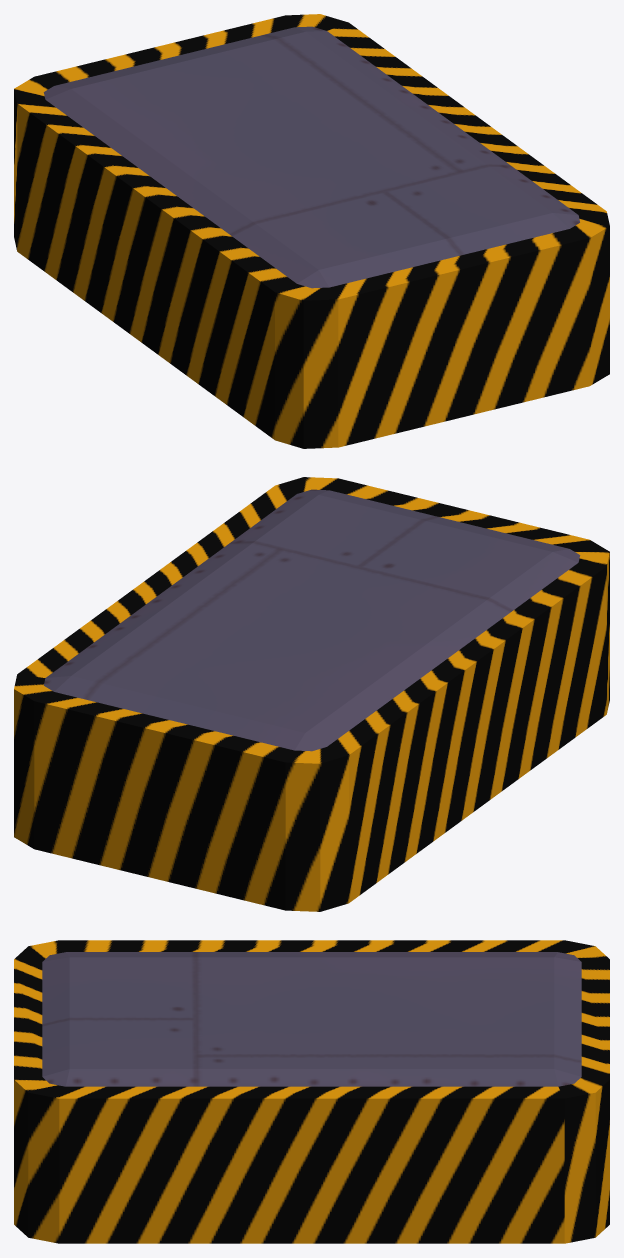
The model's file is Default_Platform.glb.
The picture shows the model from 3 angles, top to bottom: view 1: azimuth 30°, elevation 25°; view 2: azimuth 150°, elevation 25°; view 3: azimuth 270°, elevation 25°; orthographic projection. The views are drawn at different scales.
Parts seen in each view (by area): view 1: Default_Platform; view 2: Default_Platform; view 3: Default_Platform.
Part boxes in pixels (box(x1,y1,x2,y2)): Default_Platform: box(14, 14, 609, 448); Default_Platform: box(14, 477, 609, 911); Default_Platform: box(14, 940, 609, 1243).
Bounding box in the file's own units: 1.26 × 0.5607 × 2.
1 material, 1 textured.
